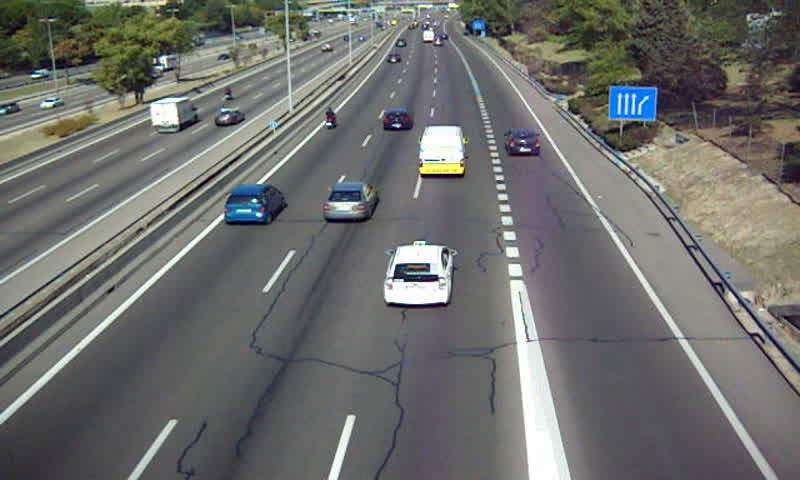car: (383, 244, 454, 306), (225, 183, 287, 223), (322, 179, 378, 222), (503, 129, 541, 156), (381, 111, 413, 132), (384, 54, 403, 65)
motorcycle: (323, 107, 336, 133)
van: (419, 126, 465, 176)
